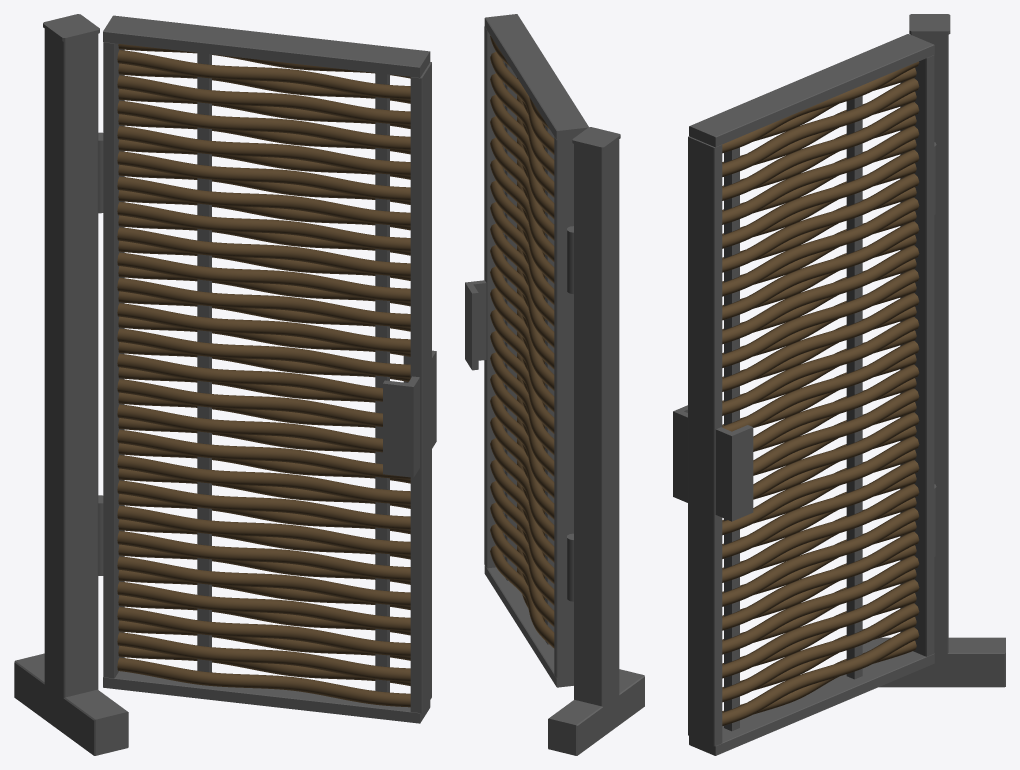
The model's file is mod_wicket_005.glb.
3 views of the same model, side by side, from view 1: azimuth 30°, elevation 25°; view 2: azimuth 150°, elevation 25°; view 3: azimuth 270°, elevation 25° (orthographic). The views are drawn at different scales.
Visible parts, largest first — view 1: door, fence_post; view 2: door, fence_post; view 3: door, fence_post.
Part boxes in pixels (bbox=[...]): door: bbox=[98, 15, 436, 723]; fence_post: bbox=[14, 14, 128, 755]; door: bbox=[465, 14, 588, 687]; fence_post: bbox=[548, 127, 644, 755]; door: bbox=[673, 34, 936, 755]; fence_post: bbox=[862, 14, 1005, 687].
Bounding box in the file's own units: 0.8047 × 1.92 × 0.8817.
